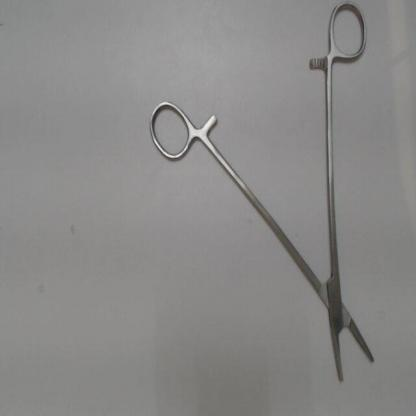8 Mayo Needle Holder: (140, 4, 384, 402)
